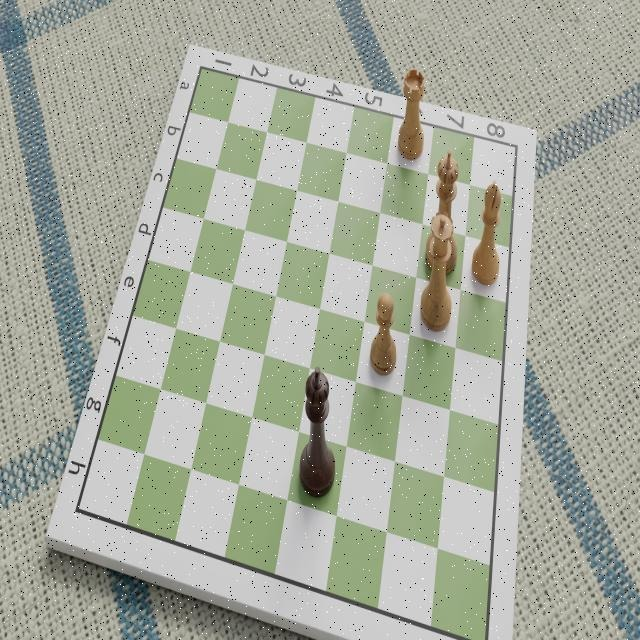black-king: (296, 361, 340, 504)
white-bishop: (470, 178, 503, 290)
white-king: (422, 145, 463, 277)
white-pawn: (367, 292, 401, 379)
white-queen: (418, 209, 454, 333)
white-rook: (396, 64, 427, 160)
